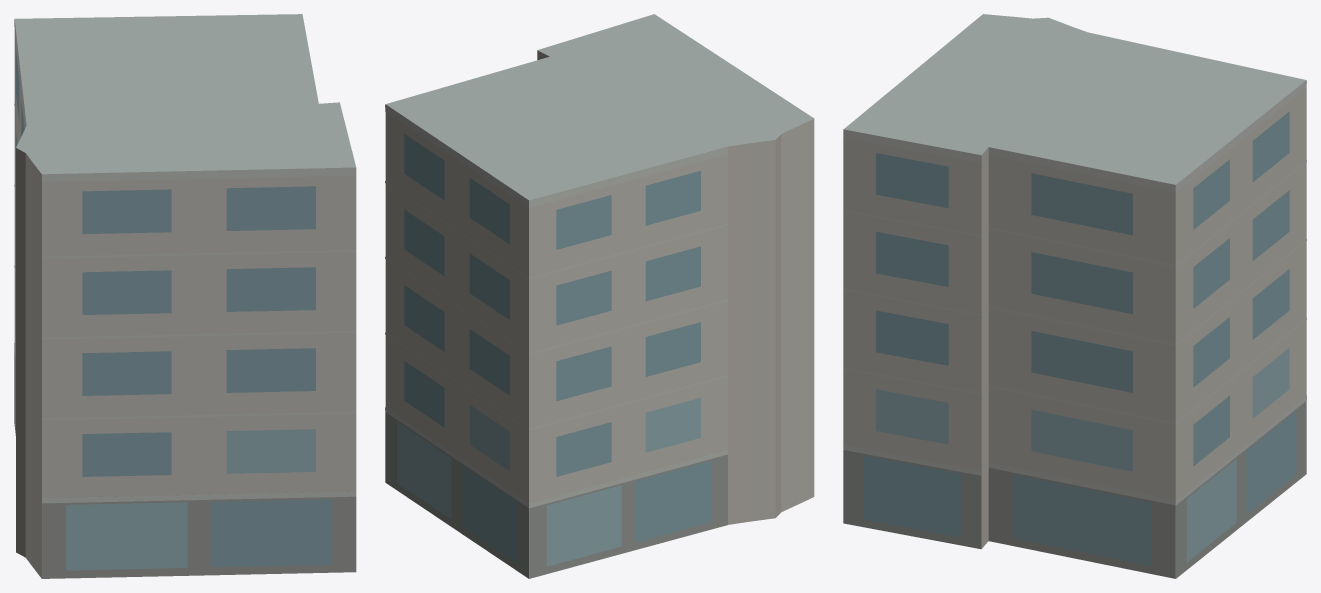
The model's file is survey-upis-32726199.glb.
The picture shows the model from 3 angles, left to right: view 1: azimuth 30°, elevation 25°; view 2: azimuth 150°, elevation 25°; view 3: azimuth 270°, elevation 25°; orthographic projection. The views are drawn at different scales.
Visible parts, largest first — view 1: survey-upis-32726199.tmp; view 2: survey-upis-32726199.tmp; view 3: survey-upis-32726199.tmp.
Part boxes in pixels (x1,y1,x2,y2): survey-upis-32726199.tmp: (14,14,356,578); survey-upis-32726199.tmp: (385,14,814,578); survey-upis-32726199.tmp: (843,14,1306,578).
Bounding box in the file's own units: 11.27 × 12.1 × 12.91.
